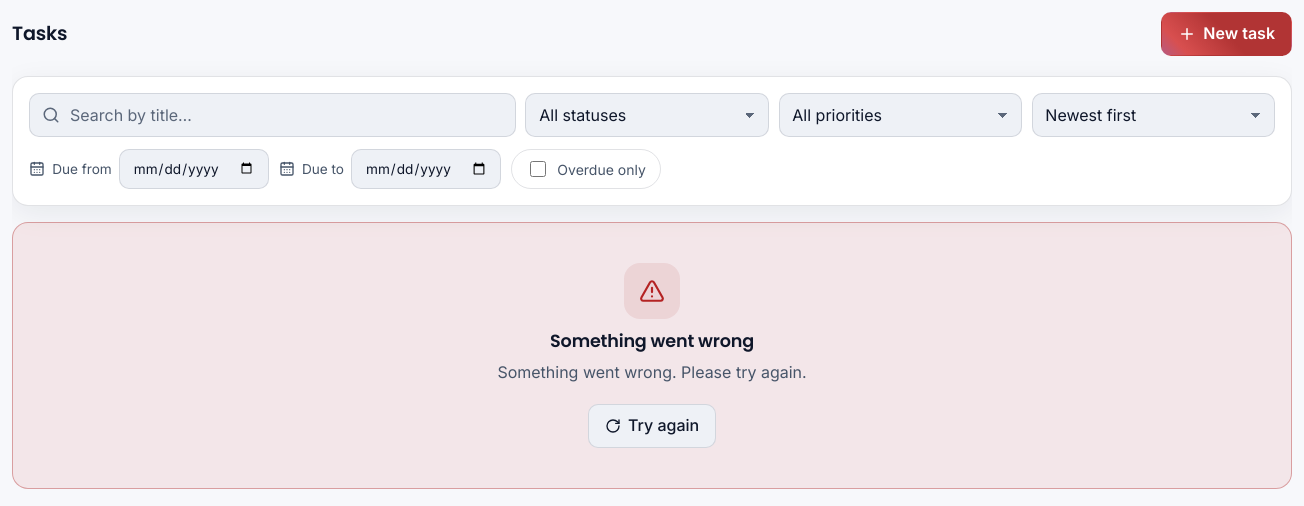
Test: TaskList states › shows the error state and retries
Check: the message shows "Something went wrong", box [550,329,754,353]
Click the button "Try again" at [652, 426], box [588,404,716,448]
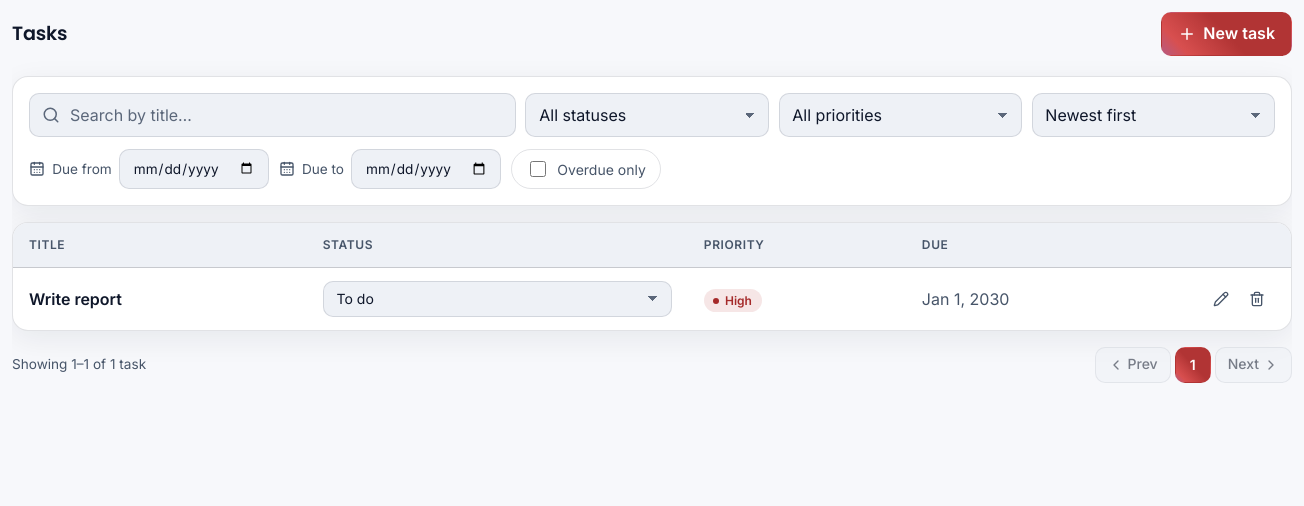
Check: the text "Write report" is shown, box [29,289,122,309]
